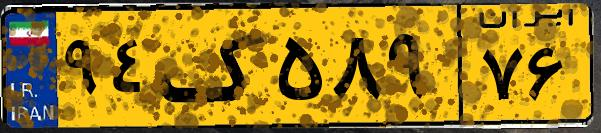4: (110, 28, 158, 98)
5: (270, 28, 330, 110)
6: (525, 38, 570, 115)
7: (475, 38, 525, 113)
8: (330, 28, 385, 110)
9: (385, 28, 445, 110), (57, 26, 110, 100)
ک: (158, 12, 270, 120)
